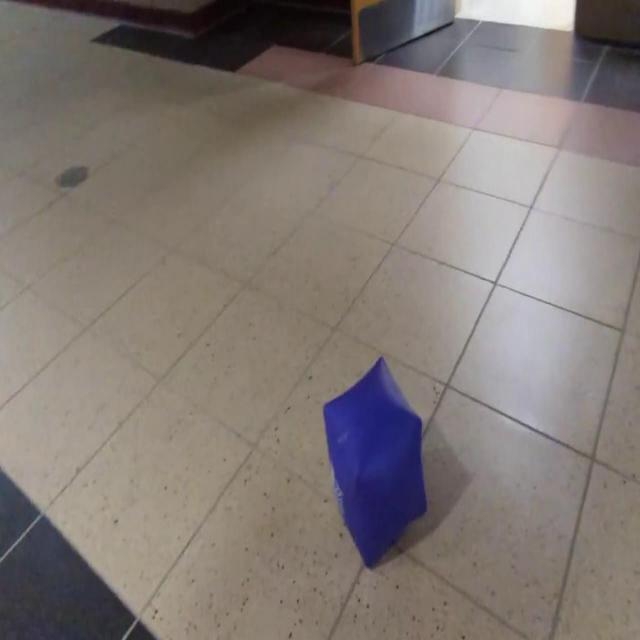frc_cube: (323, 358, 426, 570)
